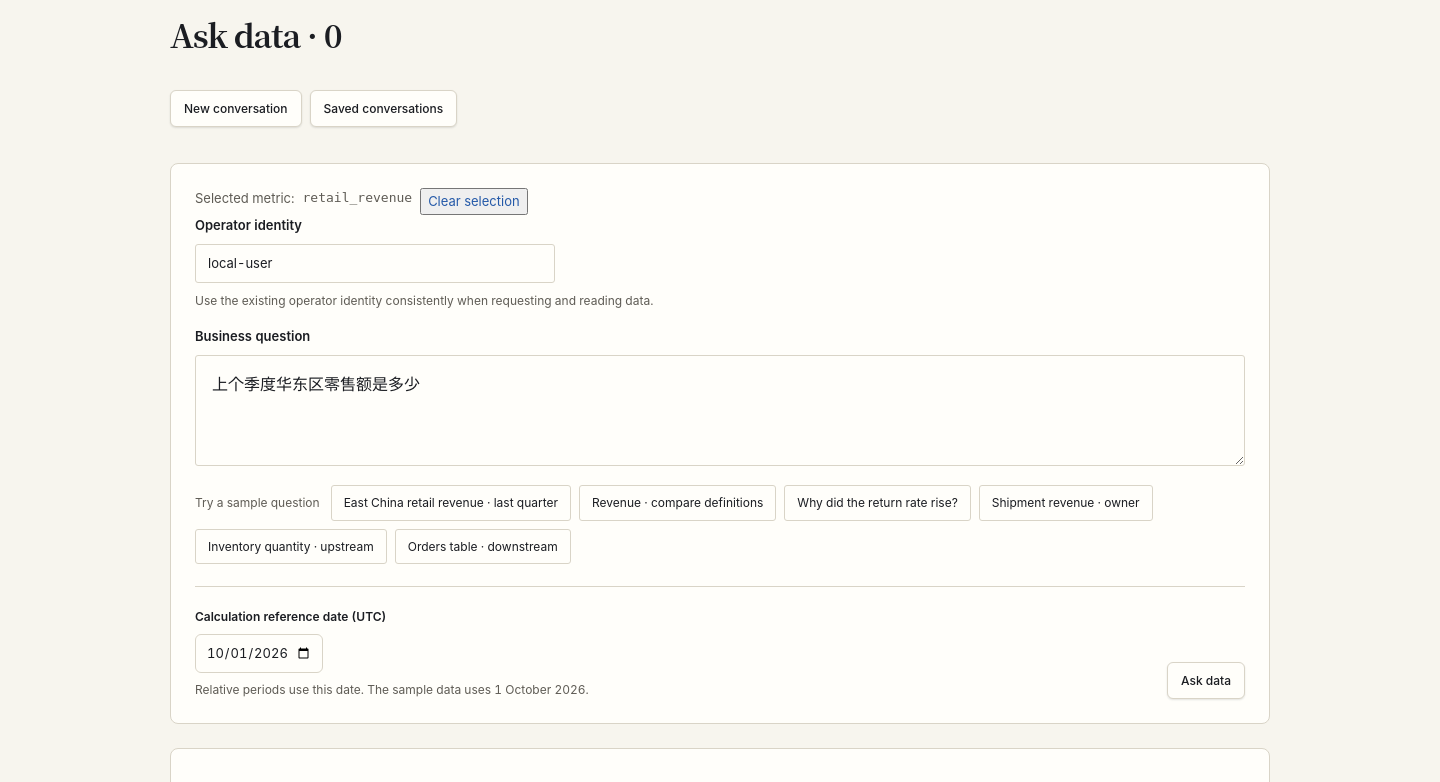
Test: prefills the hash question and metric without sending until submit and blocks IME submissions
Expected: the text box labelled "Business question" holds "上个季度华东区零售额是多少", top-left (195, 355), bottom-right (1245, 466)
Expected: the text "retail_revenue" is shown, top-left (302, 190), bottom-right (412, 205)
Submit the form, box top-left (170, 163), bottom-right (1270, 724)
Click the button "Ask data".
click(1206, 680)  # box top-left (1167, 662), bottom-right (1245, 699)
(page scrolled)
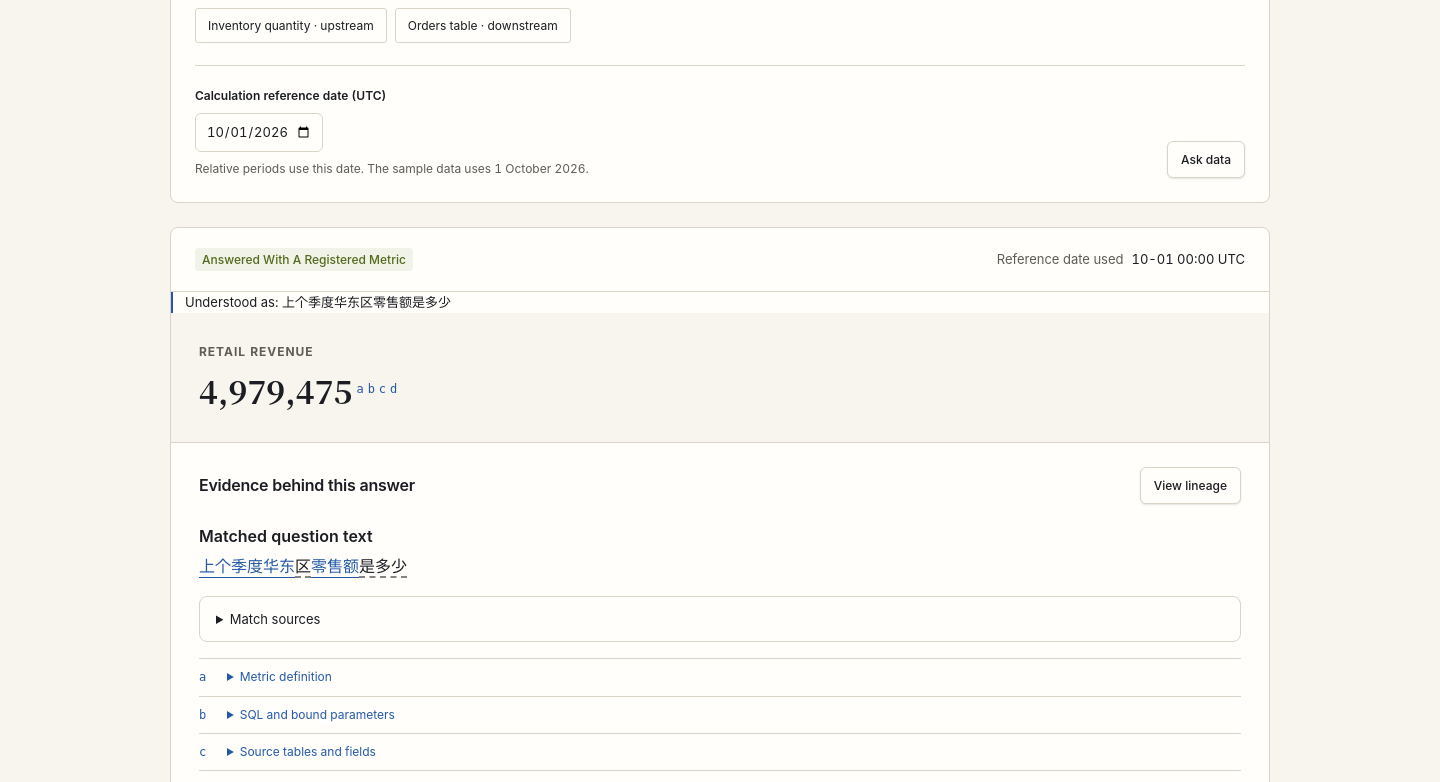
Now the text named "Calculated result" is shown, box top-left (199, 367), bottom-right (352, 413)
